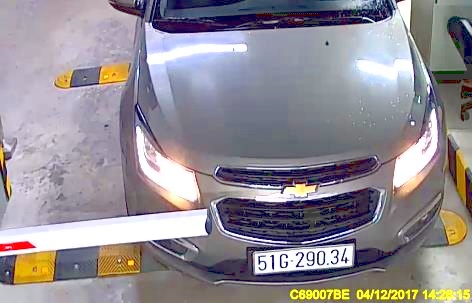plate: (255, 241, 359, 274)
